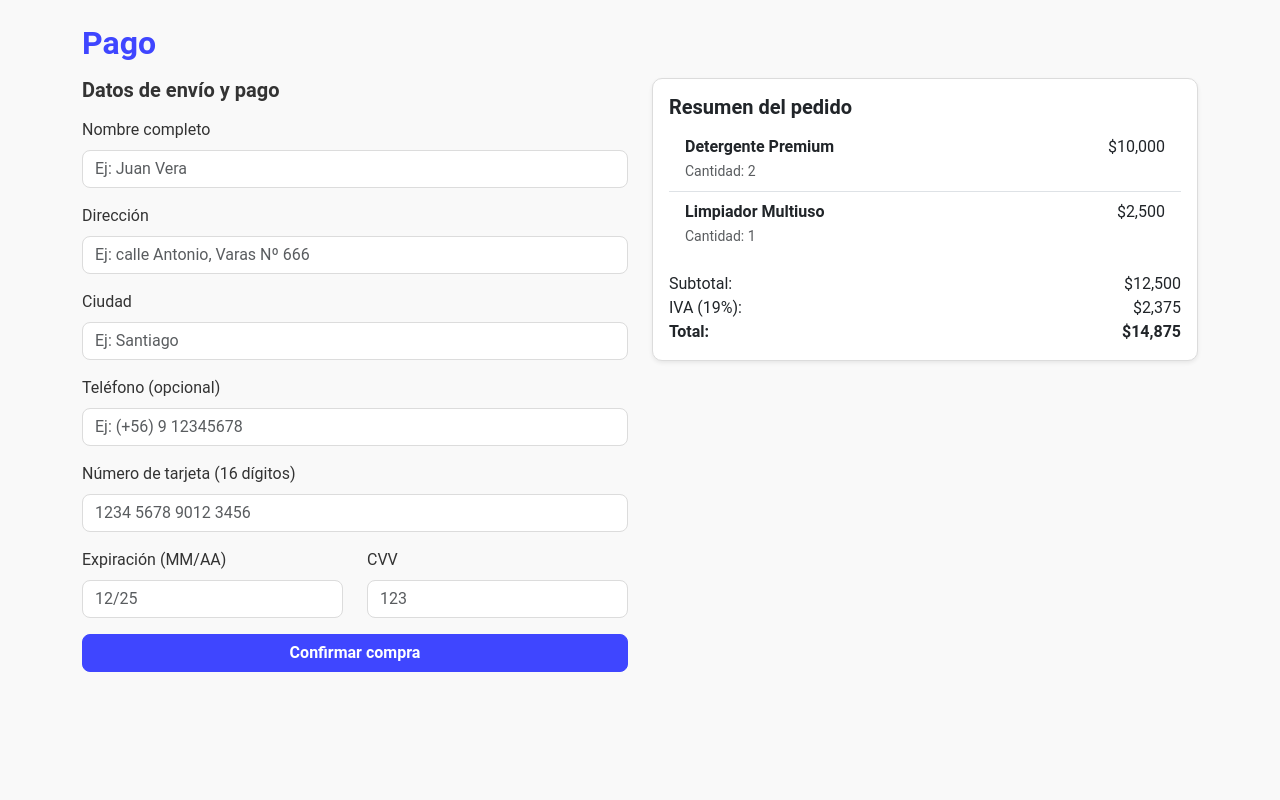
Test: Pago Page › Formulario de pago › debe formatear el número de tarjeta correctamente
This screenshot has width=1280, height=800.
Step 1. Type "1234567890123456" into the field with placeholder "1234 5678 9012 3456" → (355, 513), box x1=82 y1=494 x2=628 y2=532
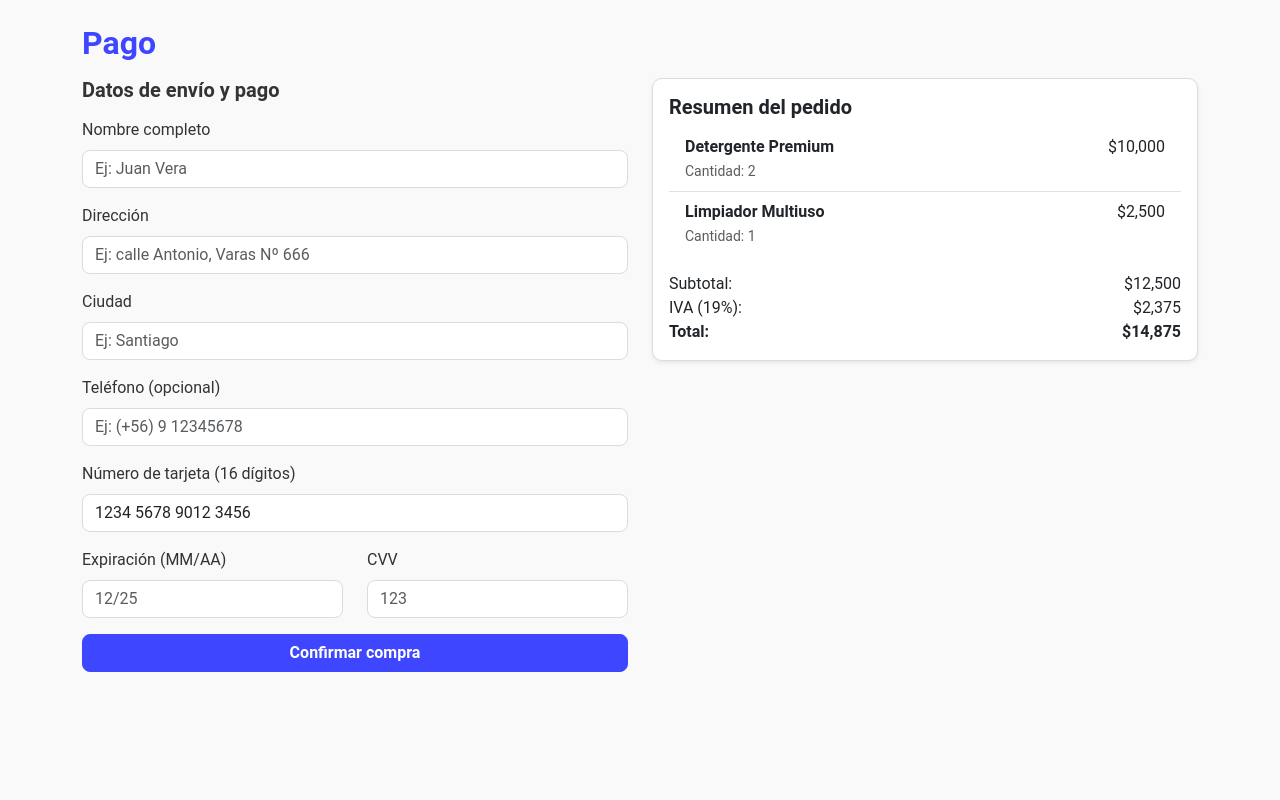
Check: the field with placeholder "1234 5678 9012 3456" holds "1234 5678 9012 3456", box x1=82 y1=494 x2=628 y2=532
